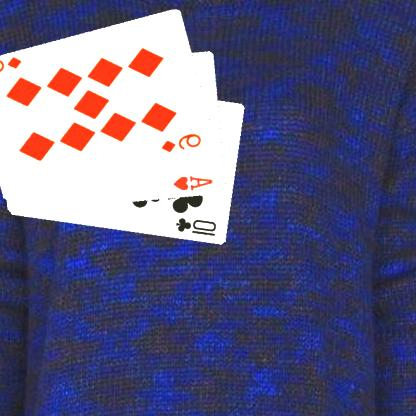10C: (175, 216, 220, 238)
9D: (160, 131, 205, 154), (0, 53, 26, 77)
AH: (173, 173, 216, 192)
